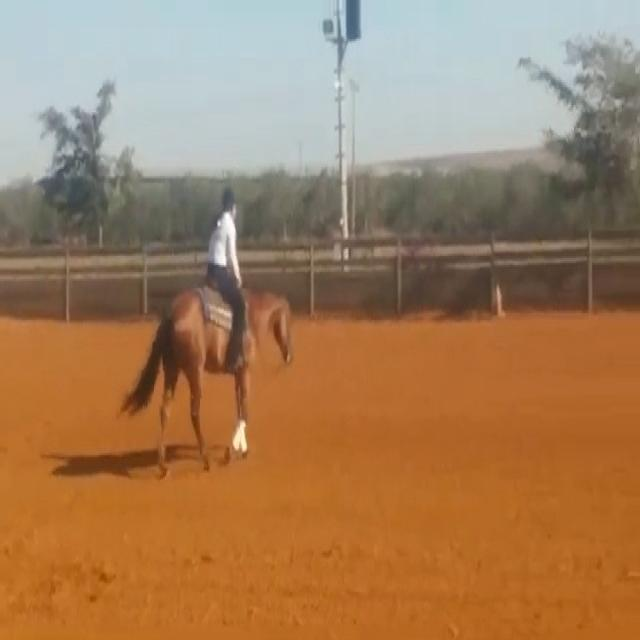horse: (119, 281, 295, 478)
